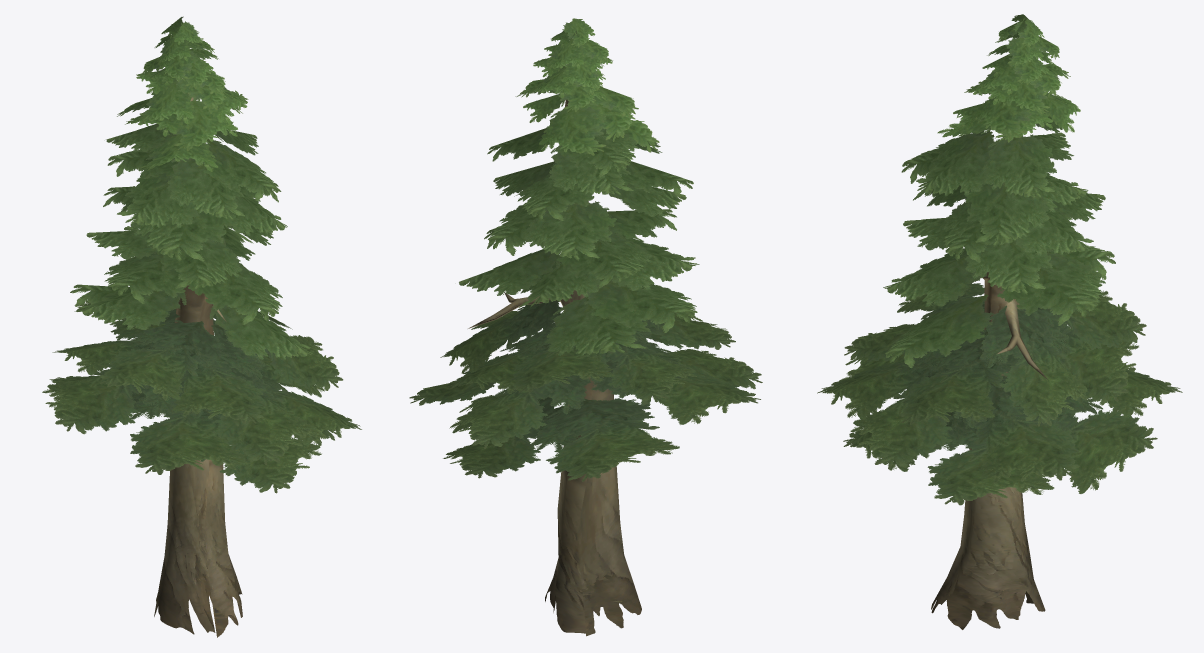
Rendered from tree_pine_02.fbx.
3 views of the same model, side by side, from view 1: azimuth 30°, elevation 25°; view 2: azimuth 150°, elevation 25°; view 3: azimuth 270°, elevation 25° (orthographic). The views are drawn at different scales.
Visible parts, largest first — view 1: tree_pine_02; view 2: tree_pine_02; view 3: tree_pine_02.
Part boxes in pixels (x1=…): tree_pine_02: x1=42, y1=16, x2=361, y2=637; tree_pine_02: x1=409, y1=18, x2=762, y2=636; tree_pine_02: x1=817, y1=14, x2=1182, y2=629.
Bounding box in the file's own units: 22838 × 42180 × 24268.
